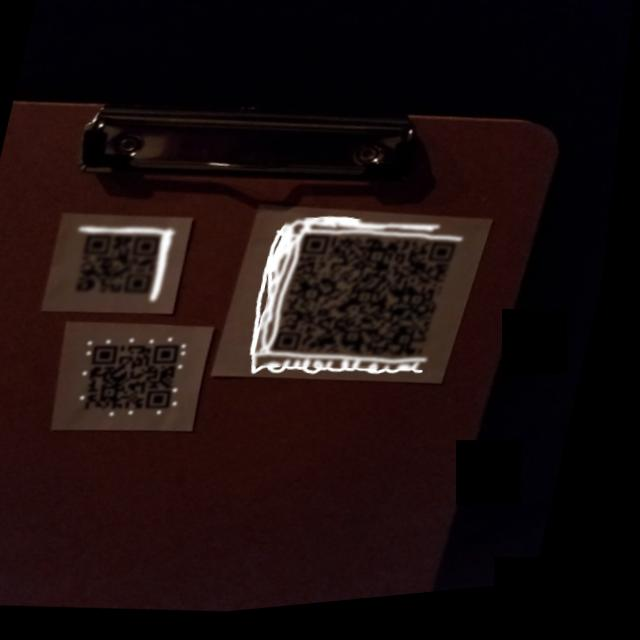QR_CODE: (258, 209, 479, 394), (66, 321, 208, 440), (61, 213, 190, 319)
